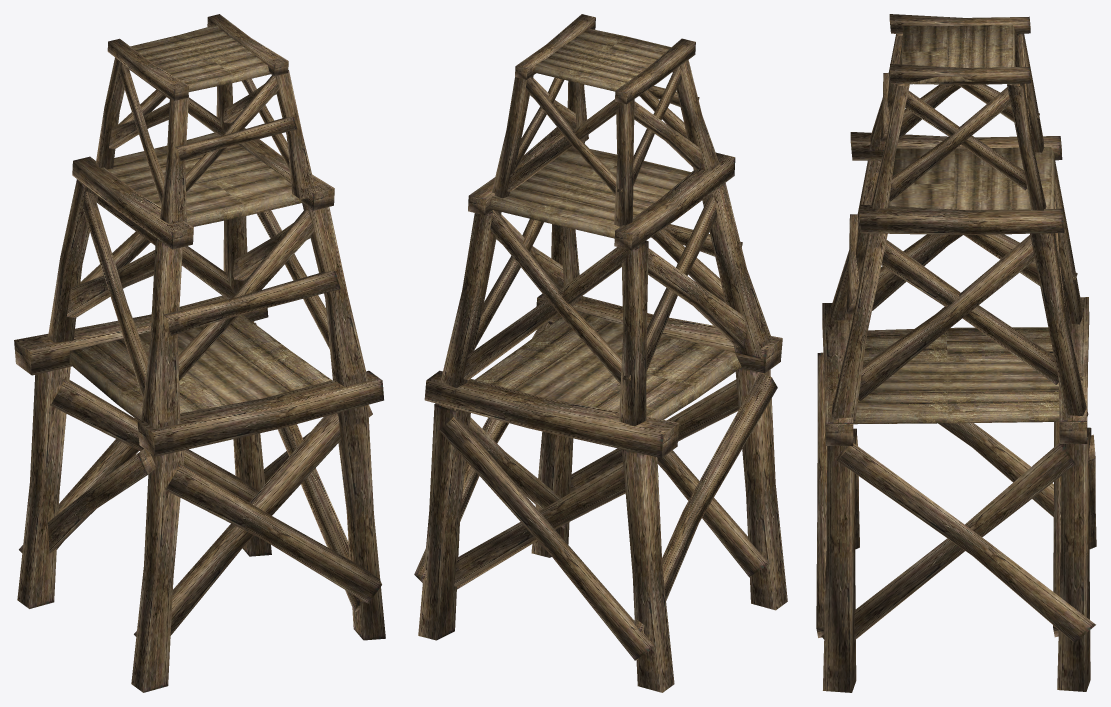
Rendered from S_Build_West061.FBX.
The picture shows the model from 3 angles, left to right: view 1: azimuth 30°, elevation 25°; view 2: azimuth 150°, elevation 25°; view 3: azimuth 270°, elevation 25°; orthographic projection. The views are drawn at different scales.
Parts seen in each view (by area): view 1: S_Build_West061; view 2: S_Build_West061; view 3: S_Build_West061.
Boxes of the visible parts, bbox=[...] form: S_Build_West061: bbox=[14, 14, 385, 692]; S_Build_West061: bbox=[414, 14, 787, 692]; S_Build_West061: bbox=[816, 14, 1096, 692].
Bounding box in the file's own units: 355 × 337 × 779.
